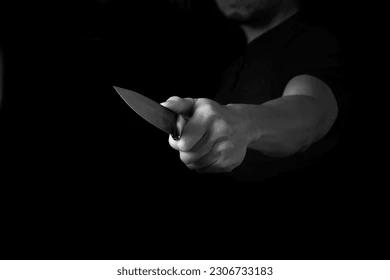Knife: (159, 0, 341, 176), (158, 91, 251, 178), (111, 83, 189, 145)
